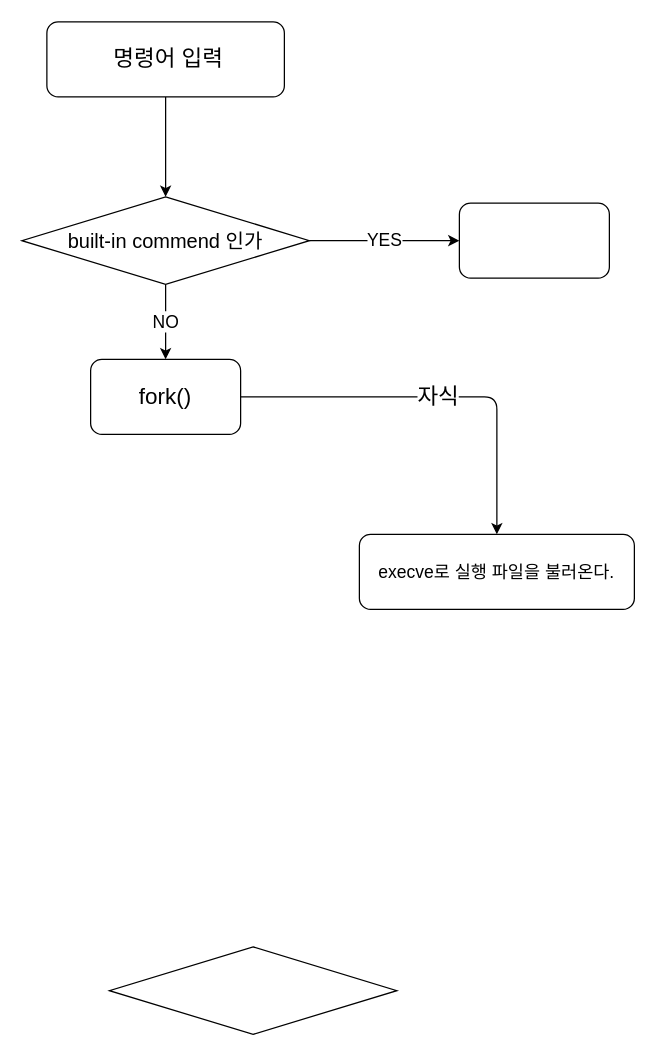
This 656x1056 diagram has some shape labels left out. The shapes that lost their labels are listed below. From the top down, each one's centre as x and y in pixels, then its label:
At (x=533, y=240): "command 실행".
At (x=252, y=990): "백그라운드 프로세스인가?".
